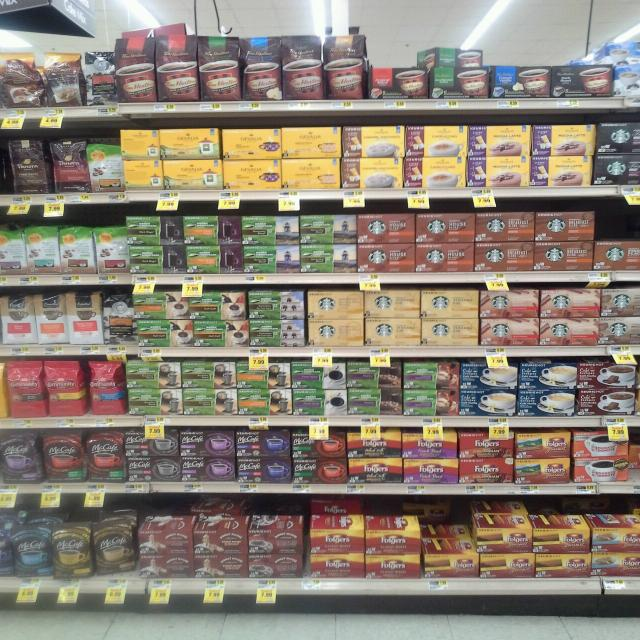unorganised: (416, 495, 472, 542), (422, 45, 485, 66)
